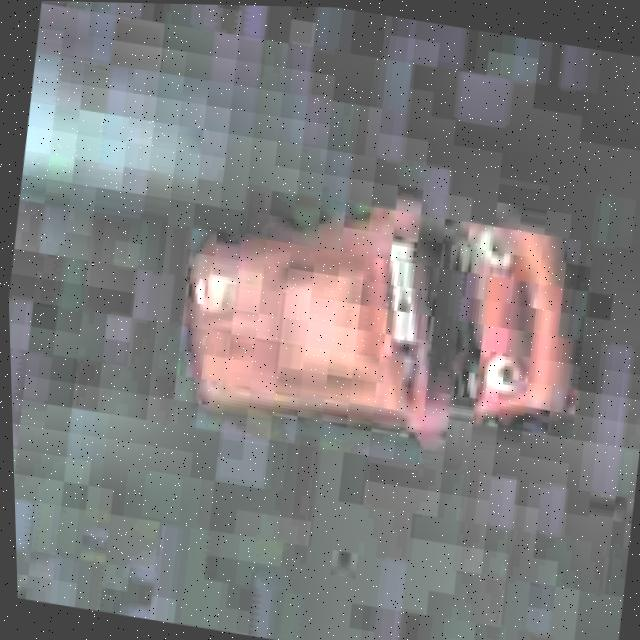bus: (164, 159, 602, 491)
